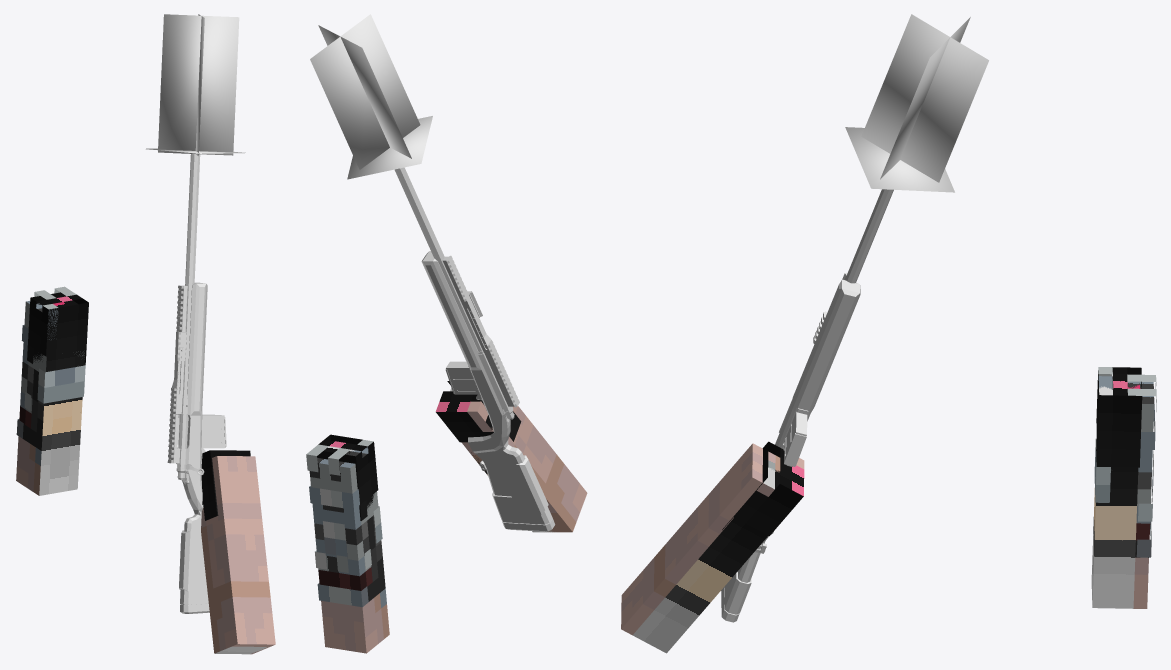
3 views of the same model, side by side, from view 1: azimuth 30°, elevation 25°; view 2: azimuth 150°, elevation 25°; view 3: azimuth 270°, elevation 25° (orthographic). The views are drawn at different scales.
Visible parts, largest first — view 1: rightArmModel, flashModel, gunModel, leftArmSlimModel, leftArmLayerSlimModel, leftArmModel, leftArmLayerModel, rightArmLayerSlimModel, ammoModel, boltModel2; view 2: gunModel, flashModel, leftArmModel, leftArmLayerModel, rightArmModel, rightArmLayerSlimModel, leftArmLayerSlimModel, ammoModel, rightArmLayerModel; view 3: flashModel, rightArmModel, gunModel, rightArmSlimModel, leftArmSlimModel, leftArmLayerSlimModel, rightArmLayerSlimModel, leftArmModel, leftArmLayerModel, ammoModel.
Boxes of the visible parts, bbox=[...] form: rightArmModel: bbox=[201, 456, 275, 654]; flashModel: bbox=[146, 14, 245, 155]; gunModel: bbox=[167, 154, 209, 613]; leftArmSlimModel: bbox=[33, 300, 85, 495]; leftArmLayerSlimModel: bbox=[27, 292, 88, 364]; leftArmModel: bbox=[16, 301, 84, 495]; leftArmLayerModel: bbox=[16, 286, 85, 438]; rightArmLayerSlimModel: bbox=[201, 450, 250, 520]; ammoModel: bbox=[187, 414, 226, 448]; boltModel2: bbox=[177, 414, 204, 475]; gunModel: bbox=[394, 167, 555, 531]; flashModel: bbox=[310, 14, 432, 179]; leftArmModel: bbox=[309, 448, 389, 653]; leftArmLayerModel: bbox=[306, 439, 382, 607]; rightArmModel: bbox=[461, 406, 587, 532]; rightArmLayerSlimModel: bbox=[435, 381, 521, 442]; leftArmLayerSlimModel: bbox=[317, 434, 378, 520]; ammoModel: bbox=[445, 361, 479, 394]; rightArmLayerModel: bbox=[467, 401, 493, 431]; flashModel: bbox=[845, 14, 988, 192]; rightArmModel: bbox=[621, 443, 780, 635]; gunModel: bbox=[721, 189, 893, 622]; rightArmSlimModel: bbox=[632, 467, 779, 653]; leftArmSlimModel: bbox=[1091, 381, 1140, 608]; leftArmLayerSlimModel: bbox=[1096, 367, 1142, 467]; rightArmLayerSlimModel: bbox=[722, 441, 804, 536]; leftArmModel: bbox=[1098, 376, 1154, 608]; leftArmLayerModel: bbox=[1094, 367, 1156, 557]; ammoModel: bbox=[784, 412, 807, 466].
Size of the model in its own units: 10.07 by 37.88 by 27.46.
Materials: 4 (2 with a texture image).
